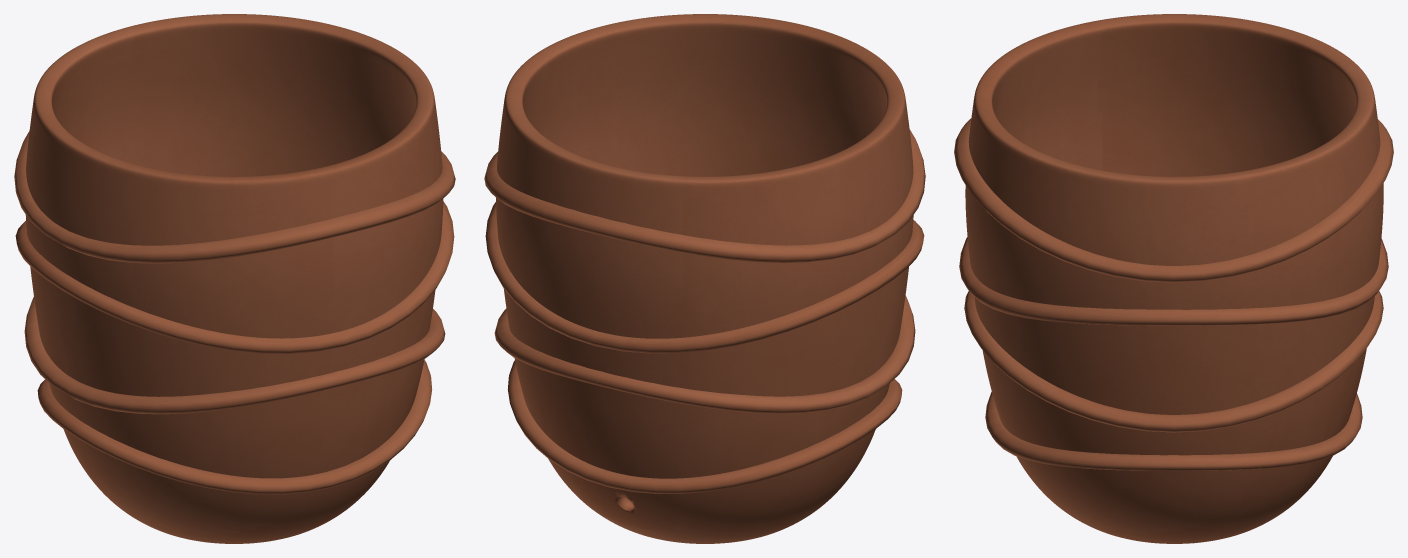
The picture shows the model from 3 angles, left to right: view 1: azimuth 30°, elevation 25°; view 2: azimuth 150°, elevation 25°; view 3: azimuth 270°, elevation 25°; orthographic projection.
Visible parts, largest first — view 1: Cylinder, BézierCircle.007; view 2: Cylinder, BézierCircle.007; view 3: Cylinder, BézierCircle.007.
Boxes of the visible parts, x1,y1,x2,y2 form: Cylinder: [25, 14, 443, 543]; BézierCircle.007: [14, 131, 455, 494]; Cylinder: [496, 14, 913, 543]; BézierCircle.007: [484, 129, 925, 494]; Cylinder: [965, 14, 1383, 543]; BézierCircle.007: [954, 118, 1393, 470].
Size of the model in its own units: 4.61 by 4.75 by 4.62.
Materials: 2 (2 with a texture image).
